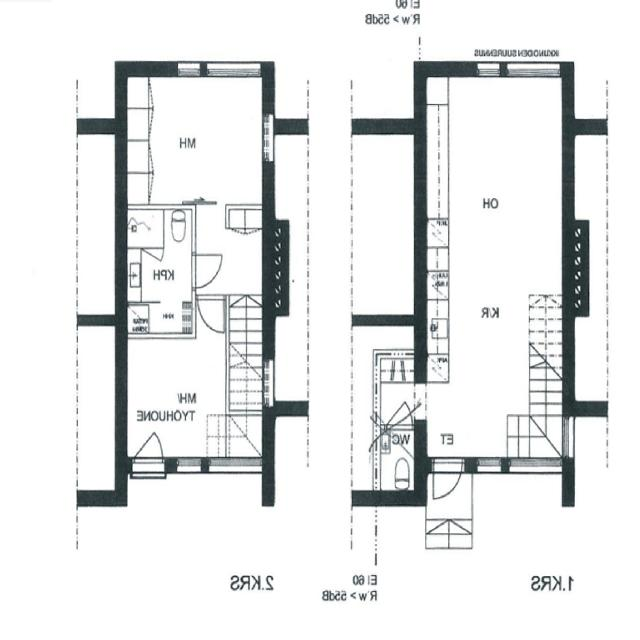door: (433, 458, 462, 510), (134, 420, 162, 472), (199, 294, 224, 332), (192, 255, 221, 287), (144, 247, 162, 273)
